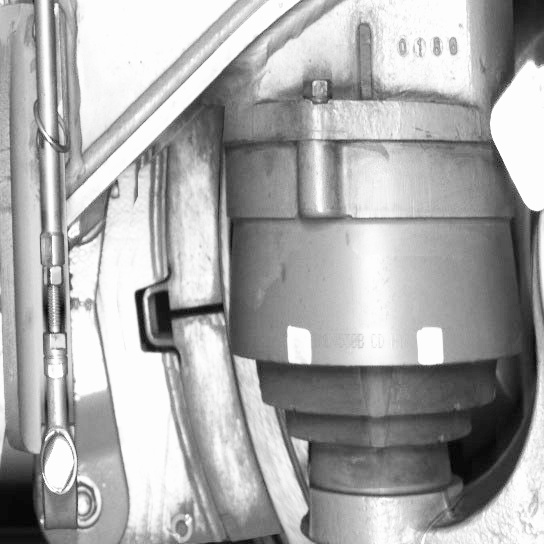ClosedKnifeSwitch: (166, 144, 292, 540)
